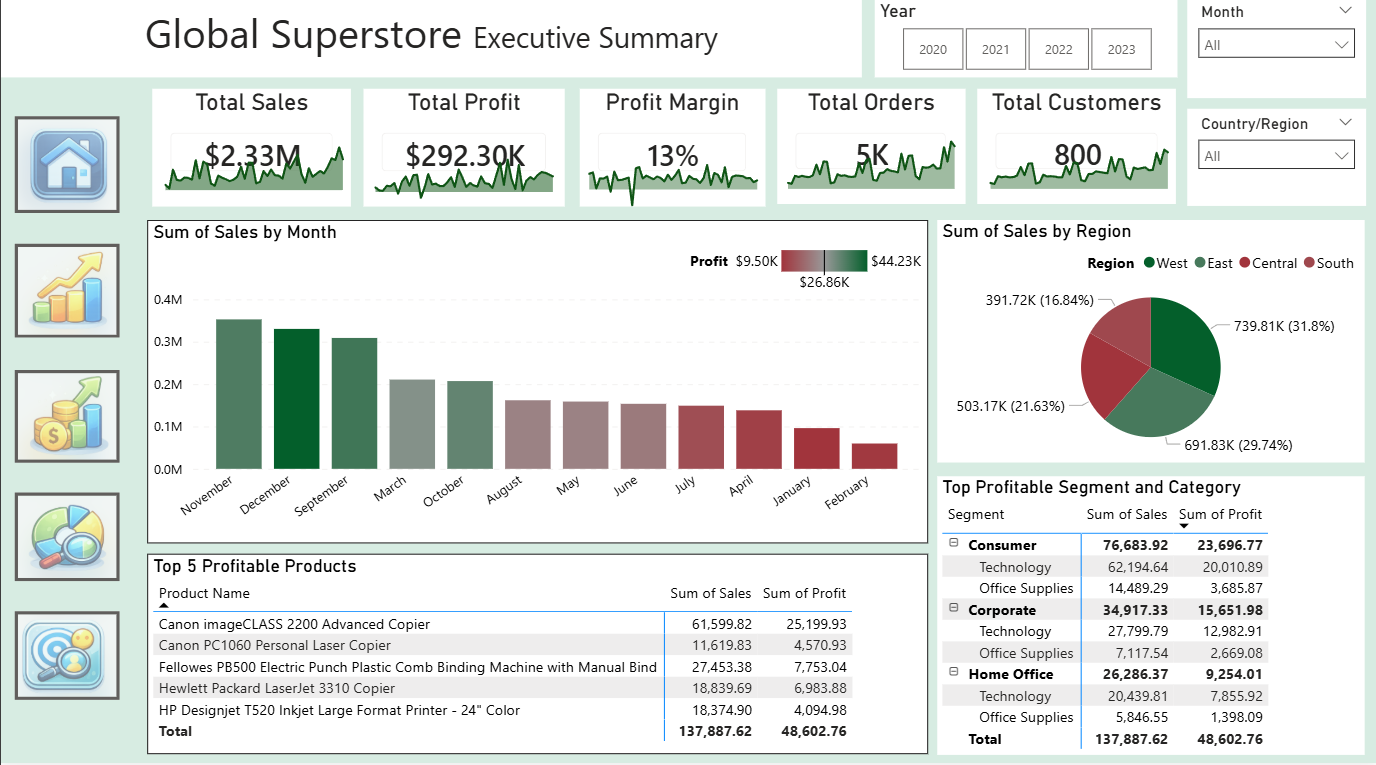

This screenshot's page, from the dashboard's own definition file:
{"tool":"powerbi","page":{"name":"Page 1","canvas":[1280,720],"ordinal":1},"visuals":[{"type":"textbox","box":[0,8.8,800.6,71.8],"z":0},{"type":"columnChart","fields":{"Y":["Sum(orders.Sales)"],"Category":["DateTable.Month"]},"box":[136,214,726.4,300.9],"z":1000},{"type":"slicer","fields":{"Values":["orders.Country/Region"]},"box":[1103.8,110,166.2,90],"z":2000},{"type":"slicer","fields":{"Values":["DateTable.Month"]},"box":[1103.8,7.5,166.2,93.8],"z":3000},{"type":"cardVisual","title":"Total Sales","fields":{"Data":["Key_Measure.Sales"]},"box":[141,91.9,185.1,109.5],"z":4000},{"type":"cardVisual","title":"Total Profit","fields":{"Data":["Key_Measure.Profit"]},"box":[337.4,91.9,187.6,109.5],"z":5000},{"type":"cardVisual","title":"Profit Margin","fields":{"Data":["Key_Measure.Profit Margin %"]},"box":[538.8,91.9,172.5,109.5],"z":6000},{"type":"stackedAreaChart","fields":{"Y":["Sum(orders.Sales)"],"Category":["DateTable.start of month"]},"box":[142.8,127.2,185.1,60.4],"z":7000},{"type":"pieChart","fields":{"Y":["Sum(orders.Sales)"],"Category":["orders.Region"]},"box":[871.1,214,397.8,225.3],"z":8000},{"type":"actionButton","box":[12.5,117.5,97.5,90],"z":9000,"group":"g1"},{"type":"pivotTable","title":"Top 5 Profitable Products","fields":{"Rows":["orders.Product Name"],"Values":["Sum(orders.Sales)","Sum(orders.Profit)"]},"box":[136,524.9,726.4,186.3],"z":9000},{"type":"actionButton","box":[12.5,236.3,97.5,87.5],"z":10000,"group":"g1"},{"type":"pivotTable","title":"Top Profitable Segment and Category","fields":{"Values":["Sum(orders.Sales)","Sum(orders.Profit)"],"Rows":["orders.Segment","orders.Category"]},"box":[871.1,451.9,397.8,259.3],"z":10000},{"type":"stackedAreaChart","fields":{"Y":["Sum(orders.Profit)"],"Category":["DateTable.start of month"]},"box":[338.6,144.8,185.1,60.4],"z":11000},{"type":"actionButton","box":[12.5,353.7,97.5,86.2],"z":11000,"group":"g1"},{"type":"stackedAreaChart","fields":{"Category":["DateTable.start of month"],"Y":["Key_Measure.Profit Margin %"]},"box":[537.2,143.1,176.2,60.4],"z":12000},{"type":"actionButton","box":[12.5,467.5,97.5,82.5],"z":12000,"group":"g1"},{"type":"cardVisual","title":"Total Orders","fields":{"Data":["Key_Measure.Total Orders"]},"box":[722.6,91.9,175,107],"z":13000},{"type":"actionButton","box":[12.5,577.5,97.5,82.5],"z":13000,"group":"g1"},{"type":"cardVisual","title":"Total Customers","fields":{"Data":["Key_Measure.Total Customers"]},"box":[907.6,91.9,185.1,107],"z":14000},{"type":"stackedAreaChart","fields":{"Category":["DateTable.start of month"],"Y":["Key_Measure.Total Orders"]},"box":[722.1,125.5,175,60.4],"z":15000},{"type":"stackedAreaChart","fields":{"Category":["DateTable.start of month"],"Y":["Key_Measure.Total Customers"]},"box":[910.2,125.9,185.1,60.4],"z":16000},{"type":"slicer","title":"Year","fields":{"Values":["DateTable.Year"]},"box":[813.2,8.8,282,71.8],"z":18000},{"type":"group","id":"g1","title":"Group 1","box":[12.5,117.5,97.5,542.5],"z":19000}]}

Visuals, with their boxes in screenshot pixels (x1, y1, x2, y2), scaled from the page's 1280x720 canvas onto the 1376x765 screenshot:
textbox: {"left": 0, "top": 9, "right": 861, "bottom": 86}
columnChart - Sum(orders.Sales) x DateTable.Month: {"left": 146, "top": 227, "right": 927, "bottom": 547}
slicer - orders.Country/Region: {"left": 1187, "top": 117, "right": 1365, "bottom": 212}
slicer - DateTable.Month: {"left": 1187, "top": 8, "right": 1365, "bottom": 108}
"Total Sales" cardVisual: {"left": 152, "top": 98, "right": 351, "bottom": 214}
"Total Profit" cardVisual: {"left": 363, "top": 98, "right": 564, "bottom": 214}
"Profit Margin" cardVisual: {"left": 579, "top": 98, "right": 765, "bottom": 214}
stackedAreaChart - Sum(orders.Sales) x DateTable.start of month: {"left": 154, "top": 135, "right": 352, "bottom": 199}
pieChart - Sum(orders.Sales) x orders.Region: {"left": 936, "top": 227, "right": 1364, "bottom": 467}
actionButton: {"left": 13, "top": 125, "right": 118, "bottom": 220}
"Top 5 Profitable Products" pivotTable: {"left": 146, "top": 558, "right": 927, "bottom": 756}
actionButton: {"left": 13, "top": 251, "right": 118, "bottom": 344}
"Top Profitable Segment and Category" pivotTable: {"left": 936, "top": 480, "right": 1364, "bottom": 756}
stackedAreaChart - Sum(orders.Profit) x DateTable.start of month: {"left": 364, "top": 154, "right": 563, "bottom": 218}
actionButton: {"left": 13, "top": 376, "right": 118, "bottom": 467}
stackedAreaChart - DateTable.start of month x Key_Measure.Profit Margin %: {"left": 577, "top": 152, "right": 767, "bottom": 216}
actionButton: {"left": 13, "top": 497, "right": 118, "bottom": 584}
"Total Orders" cardVisual: {"left": 777, "top": 98, "right": 965, "bottom": 211}
actionButton: {"left": 13, "top": 614, "right": 118, "bottom": 701}
"Total Customers" cardVisual: {"left": 976, "top": 98, "right": 1175, "bottom": 211}
stackedAreaChart - DateTable.start of month x Key_Measure.Total Orders: {"left": 776, "top": 133, "right": 964, "bottom": 198}
stackedAreaChart - DateTable.start of month x Key_Measure.Total Customers: {"left": 978, "top": 134, "right": 1177, "bottom": 198}
"Year" slicer: {"left": 874, "top": 9, "right": 1177, "bottom": 86}
"Group 1" group: {"left": 13, "top": 125, "right": 118, "bottom": 701}
